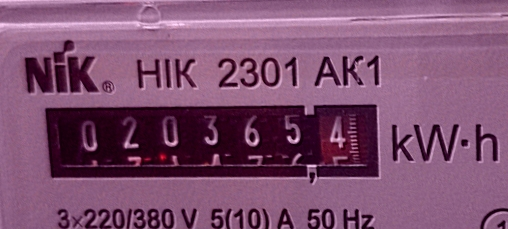0: (160, 110, 180, 147), (78, 115, 99, 150)
2: (117, 112, 140, 148)
3: (200, 109, 220, 144)
4: (327, 111, 347, 146)
5: (281, 110, 302, 143)
6: (241, 110, 261, 146)
screen: (26, 80, 398, 195)
